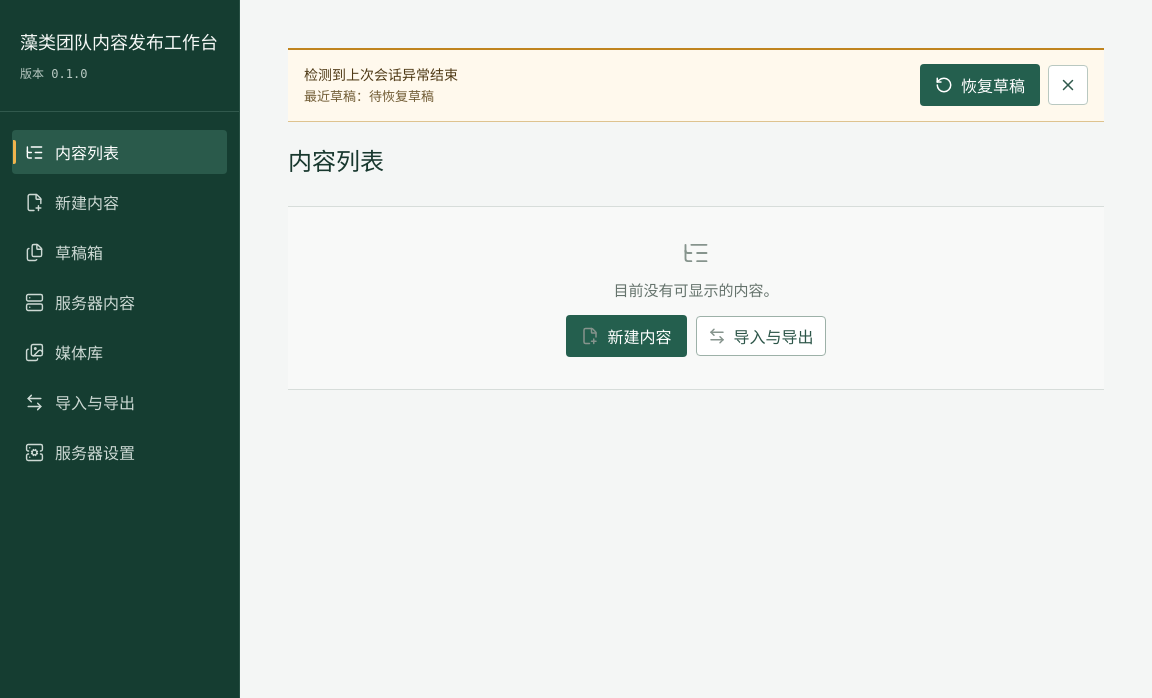
Test case: offers the most recent draft once after an interrupted session
The width and height of the screenshot is (1152, 698).
Expected: the message named "异常恢复" shows "最近草稿：待恢复草稿", [288,48,1104,122]
Click the button "恢复草稿" at (980, 85), box [920,64,1040,106]
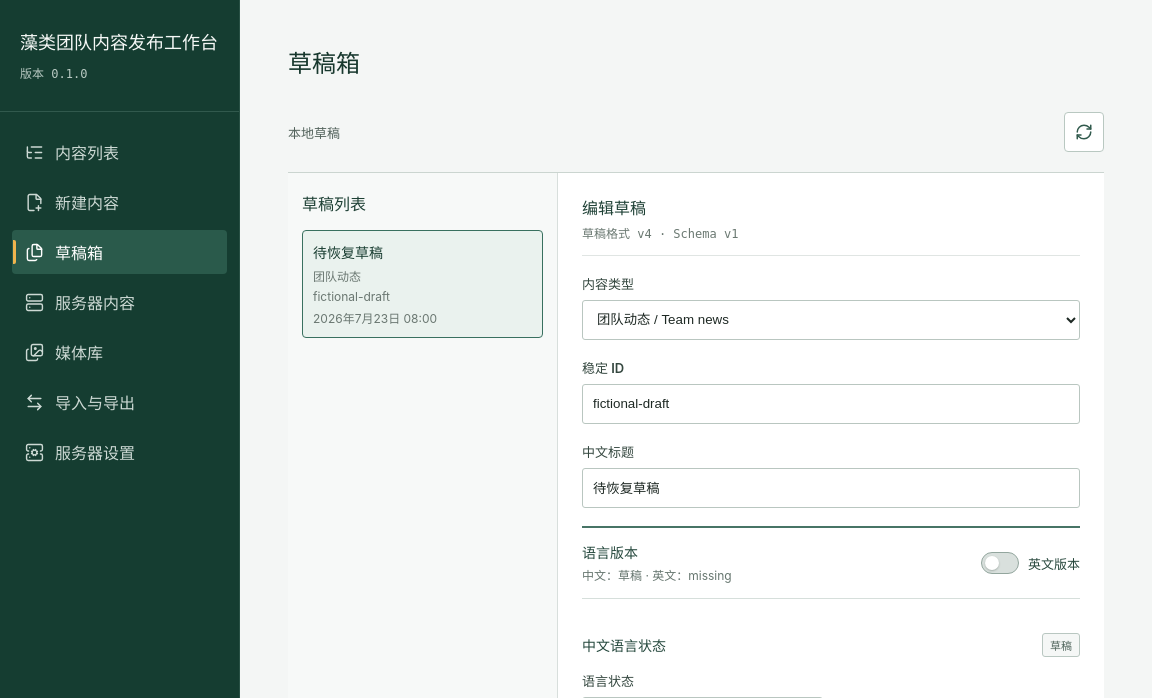
Expected: the message "异常恢复" is gone
Expected: the heading "草稿箱" is shown, [288,49,360,78]
Expected: the field showing "待恢复草稿" is shown, [582,468,1080,508]
